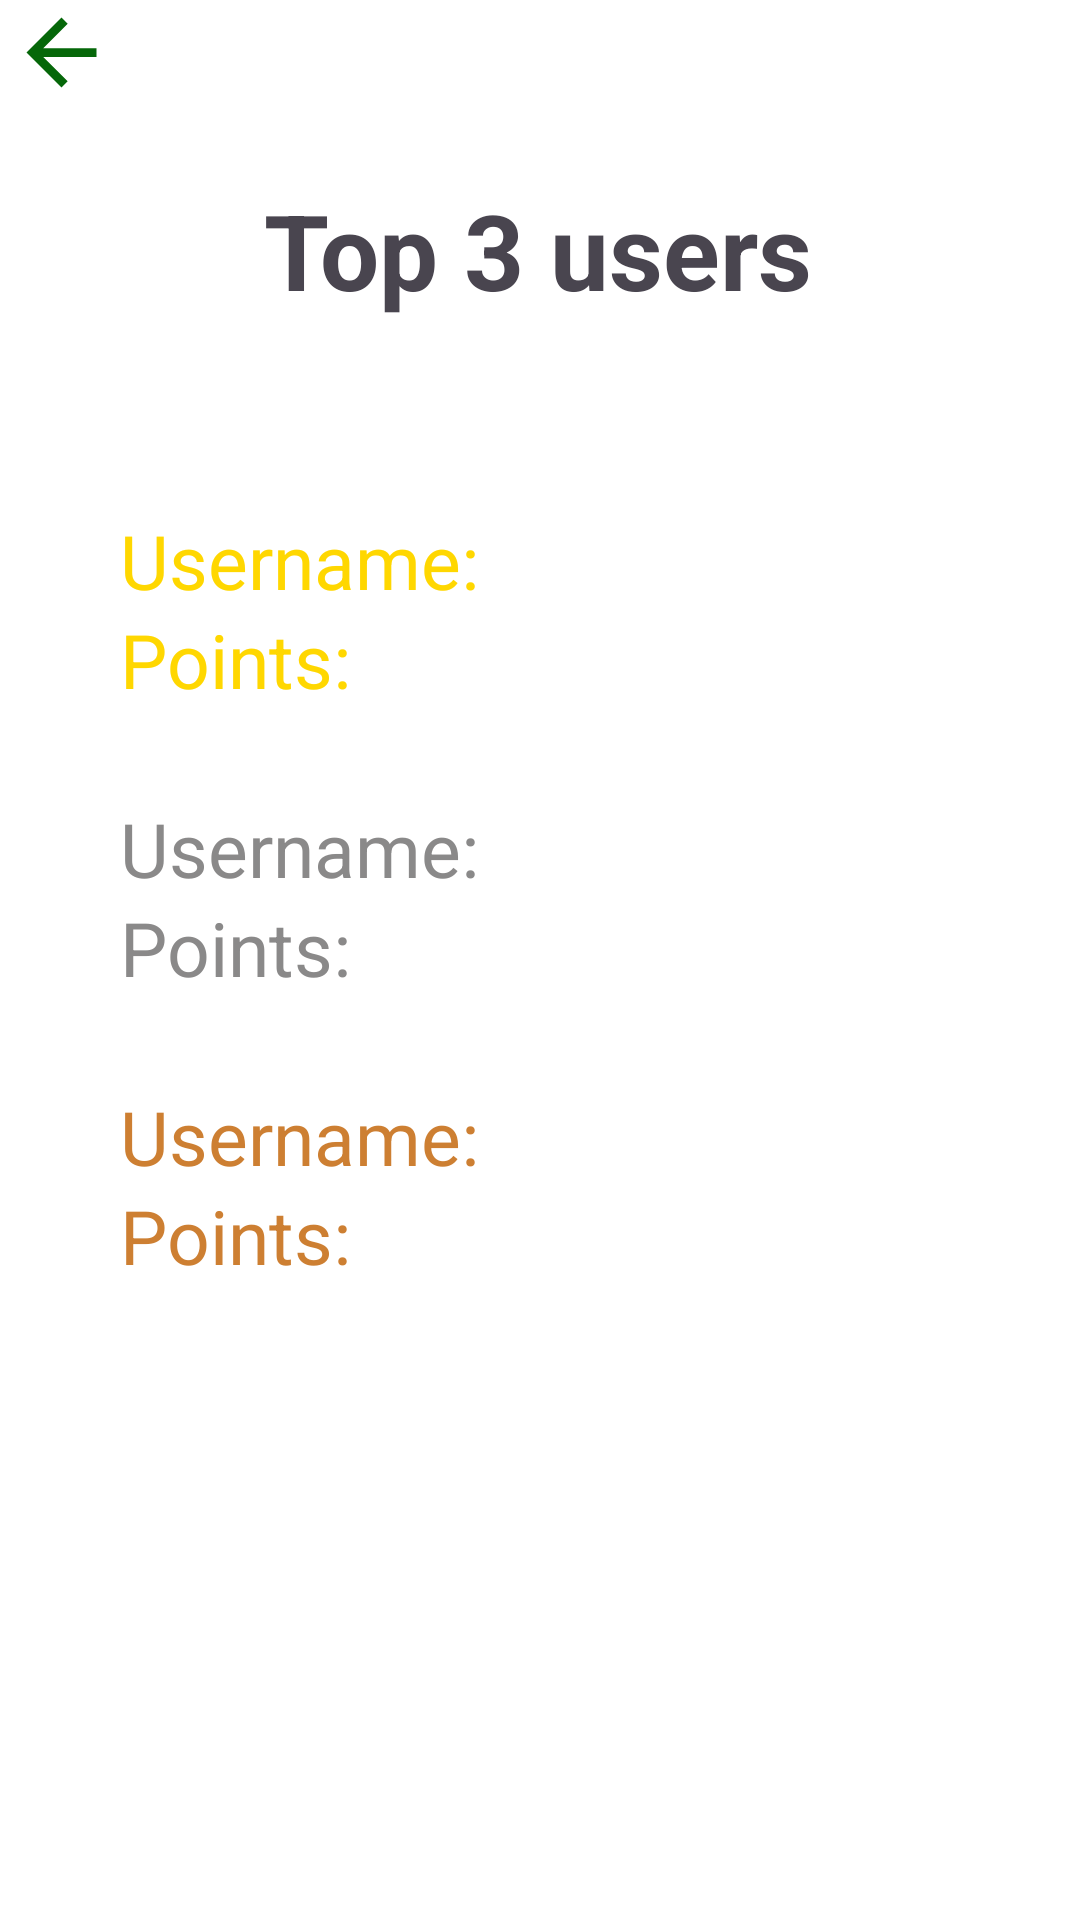

Where to tap for icons on this 1080 × 1920 app screen, as point (x, y):
Back: point (61, 52)
